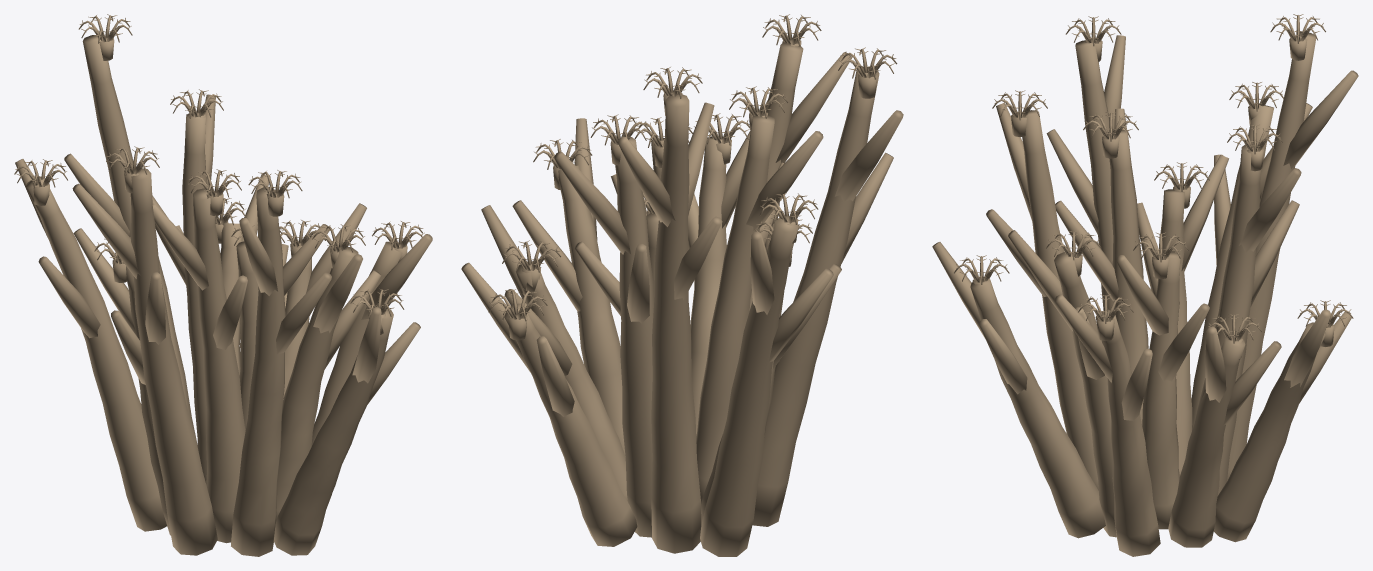
The model's file is sinularia-mobile.glb.
3 views of the same model, side by side, from view 1: azimuth 30°, elevation 25°; view 2: azimuth 150°, elevation 25°; view 3: azimuth 270°, elevation 25° (orthographic). The views are drawn at different scales.
Visible parts, largest first — view 1: branch, lateral-branch, octocoral-tentacle, polyp-column, pinnule; view 2: branch, lateral-branch, octocoral-tentacle, polyp-column, pinnule; view 3: branch, lateral-branch, octocoral-tentacle, polyp-column, pinnule.
Part boxes in pixels (x1,y1,x2,y2): branch: (25, 35, 402, 556); lateral-branch: (15, 94, 432, 405); octocoral-tentacle: (14, 15, 422, 317); polyp-column: (32, 37, 407, 334); pinnule: (15, 14, 424, 310); branch: (503, 42, 879, 556); lateral-branch: (461, 52, 903, 416); octocoral-tentacle: (488, 15, 897, 321); polyp-column: (508, 39, 877, 340); pinnule: (489, 14, 896, 313); branch: (970, 32, 1325, 556); lateral-branch: (932, 35, 1358, 425); octocoral-tentacle: (954, 15, 1353, 343); polyp-column: (972, 36, 1334, 359); pinnule: (956, 14, 1351, 335).
Bounding box in the file's own units: 0.487 × 0.6398 × 0.5257.
